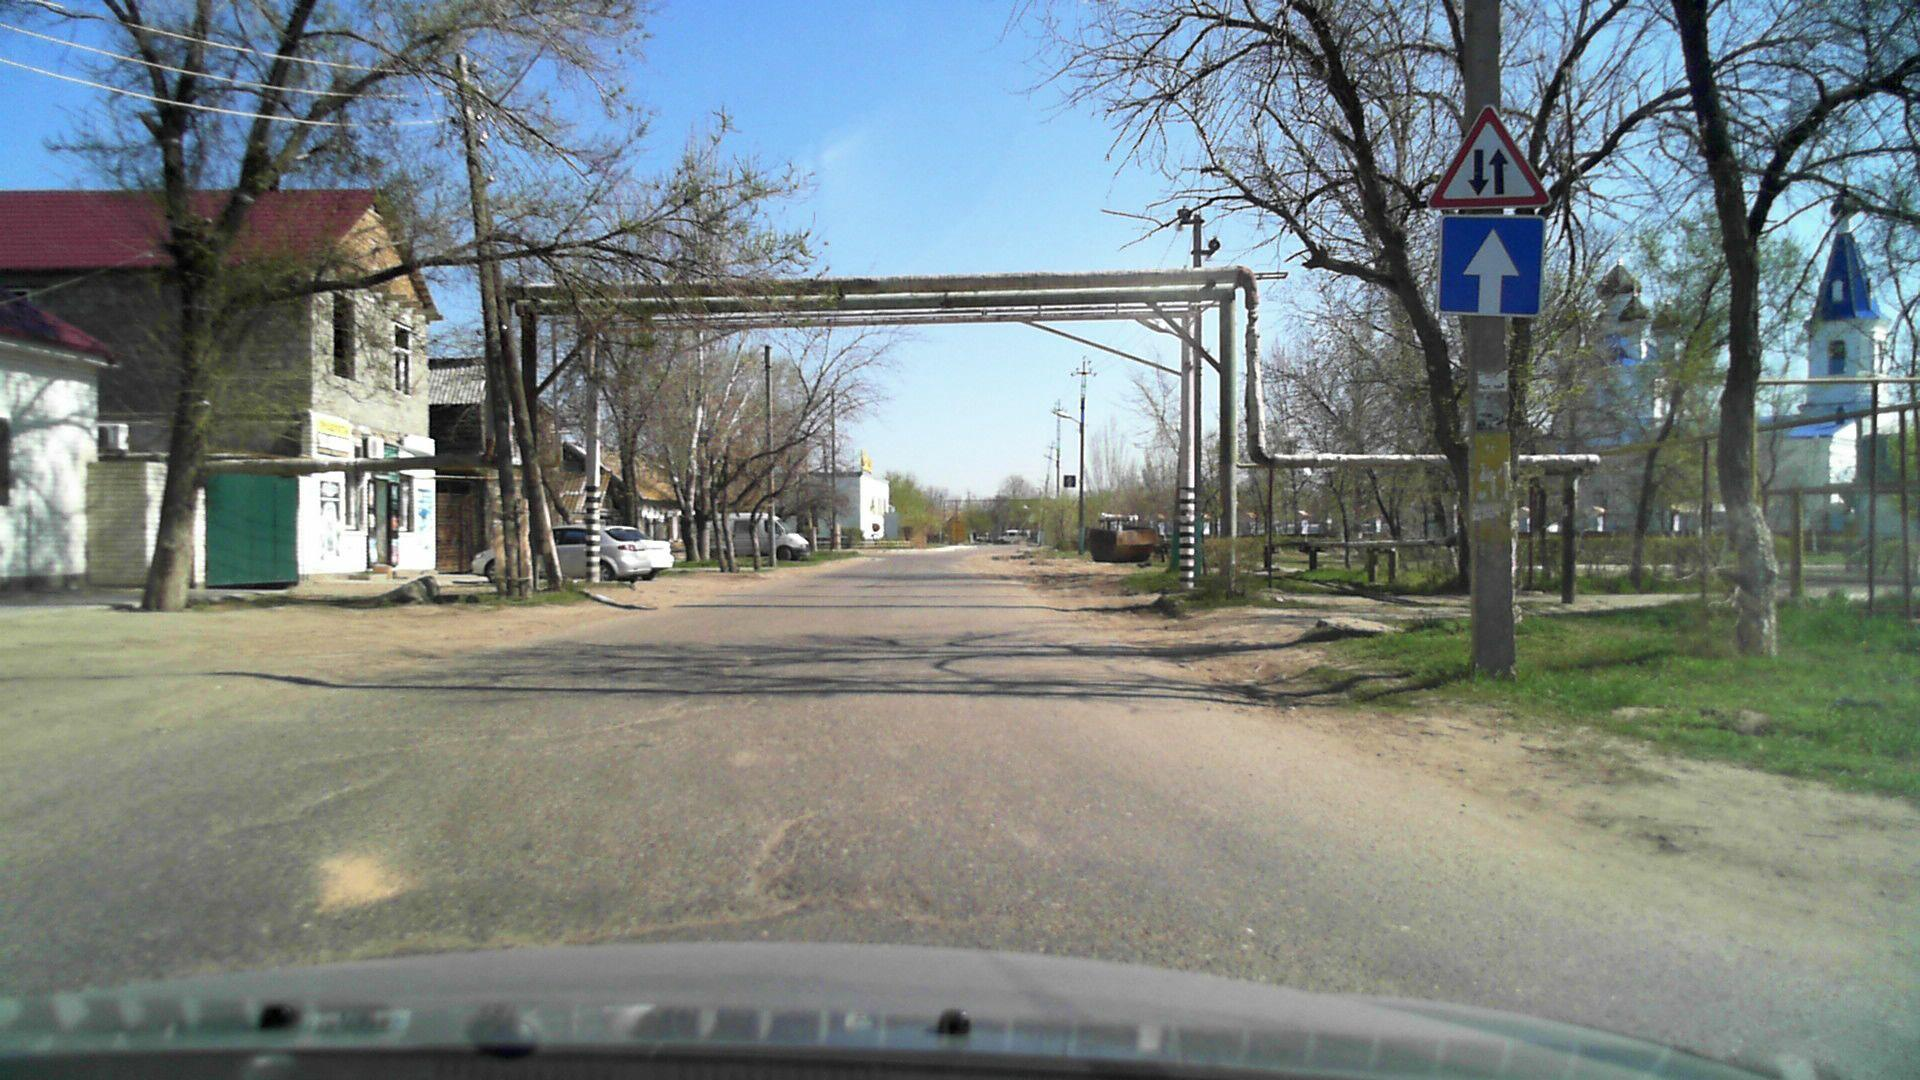1_21: (1425, 101, 1548, 210)
5_5: (1439, 213, 1541, 317)
5_6: (1064, 475, 1076, 487)
